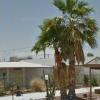Tree: (32, 2, 100, 74)
